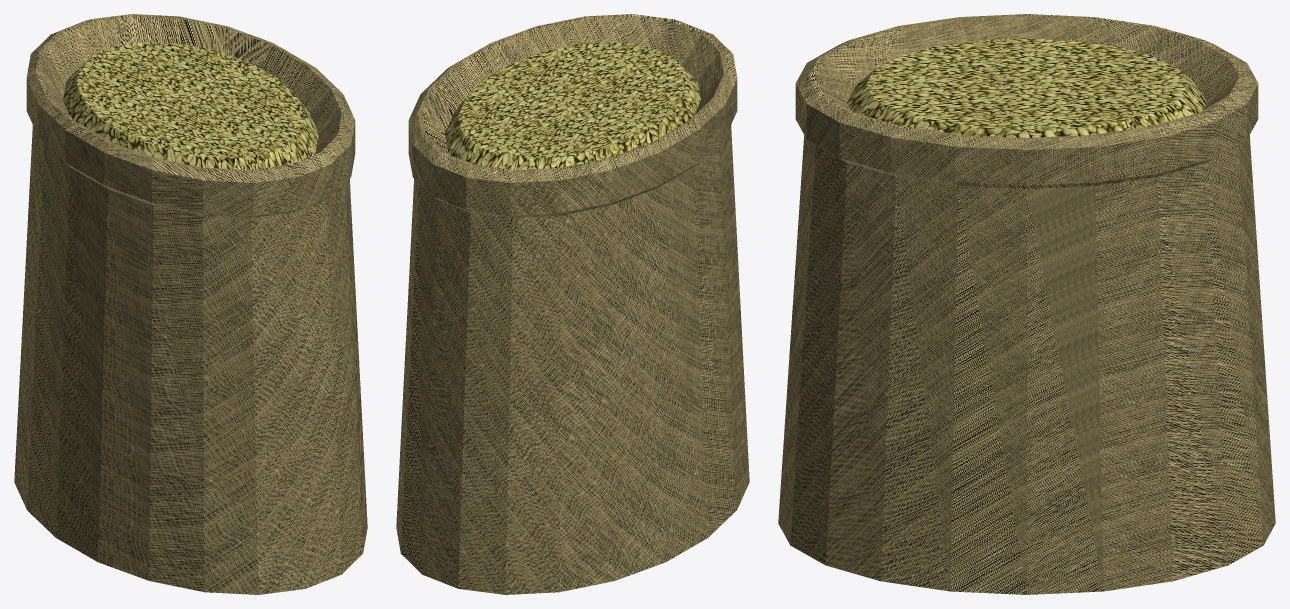
File: RawBeanBag.fbx
The picture shows the model from 3 angles, left to right: view 1: azimuth 30°, elevation 25°; view 2: azimuth 150°, elevation 25°; view 3: azimuth 270°, elevation 25°; orthographic projection. The views are drawn at different scales.
Parts seen in each view (by area): view 1: Cylinder; view 2: Cylinder; view 3: Cylinder.
Part boxes in pixels (box(x1,y1,x2,y2)): Cylinder: box(14, 14, 367, 594); Cylinder: box(396, 14, 749, 594); Cylinder: box(778, 14, 1275, 594).
Bounding box in the file's own units: 136 × 198 × 200.
